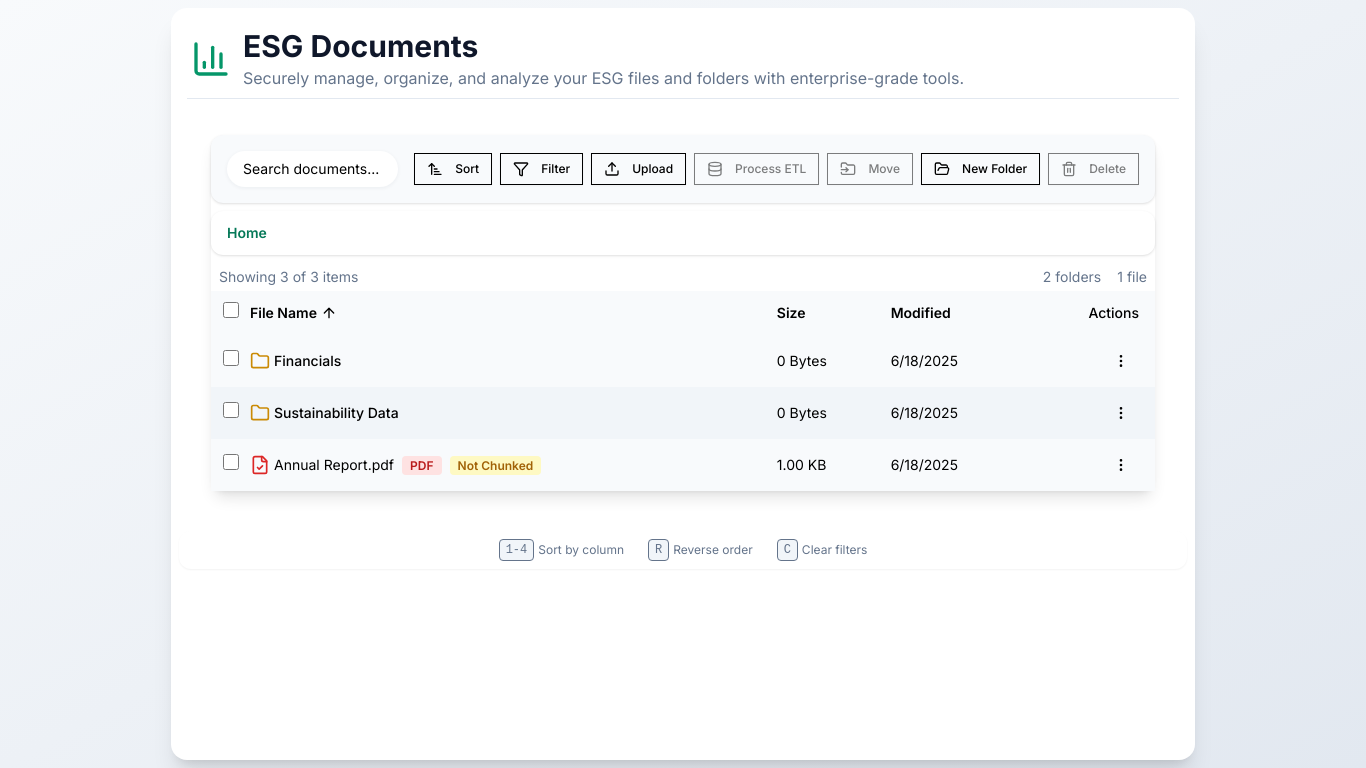
Test: Move Item Functionality › should move a file to the selected destination folder
Expected: the text "Annual Report.pdf" is shown, [274,456,394,472]
Click the button named "more-actions" in the row of "Annual Report.pdf". click: {"x": 1121, "y": 464}
box: [1103,446,1139,482]
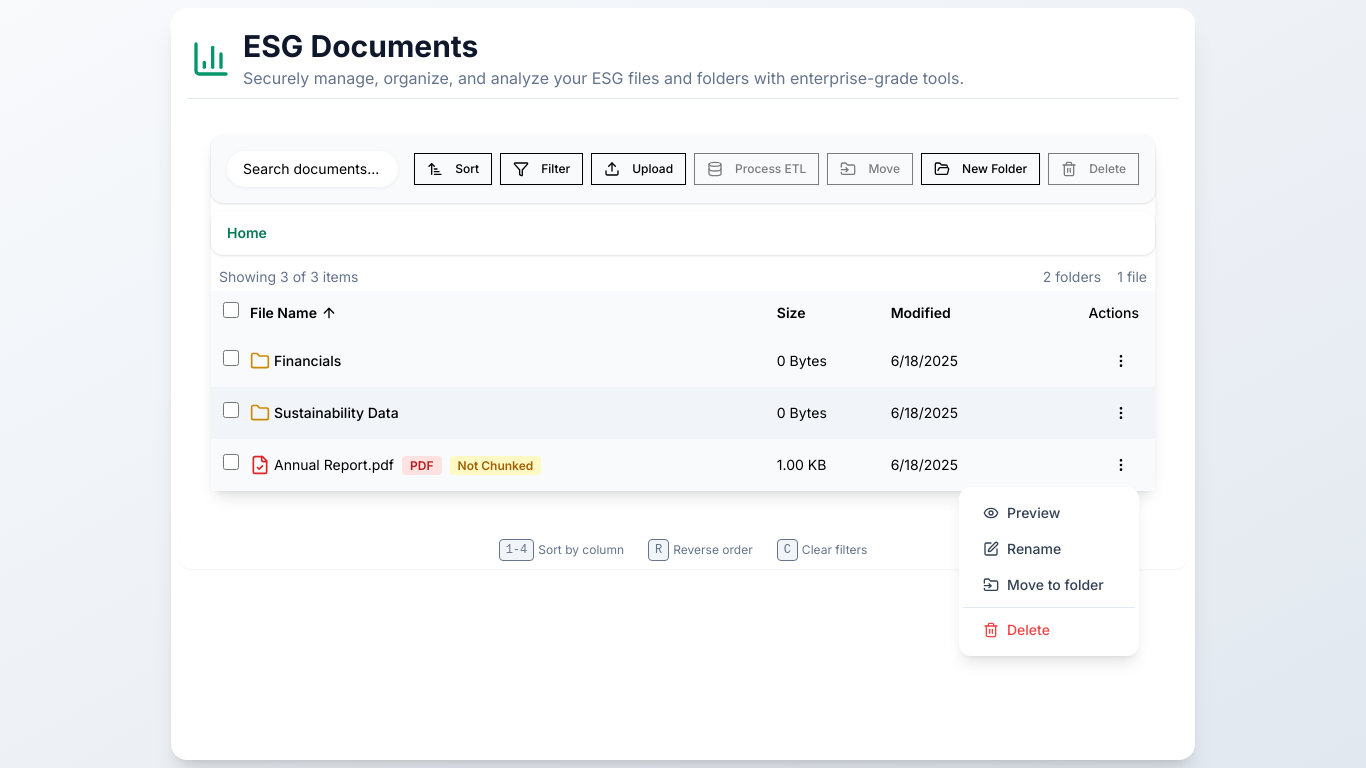
Click the menu item with aria-label "move-to-folder". click: {"x": 1043, "y": 584}
box: [983,576,1104,593]
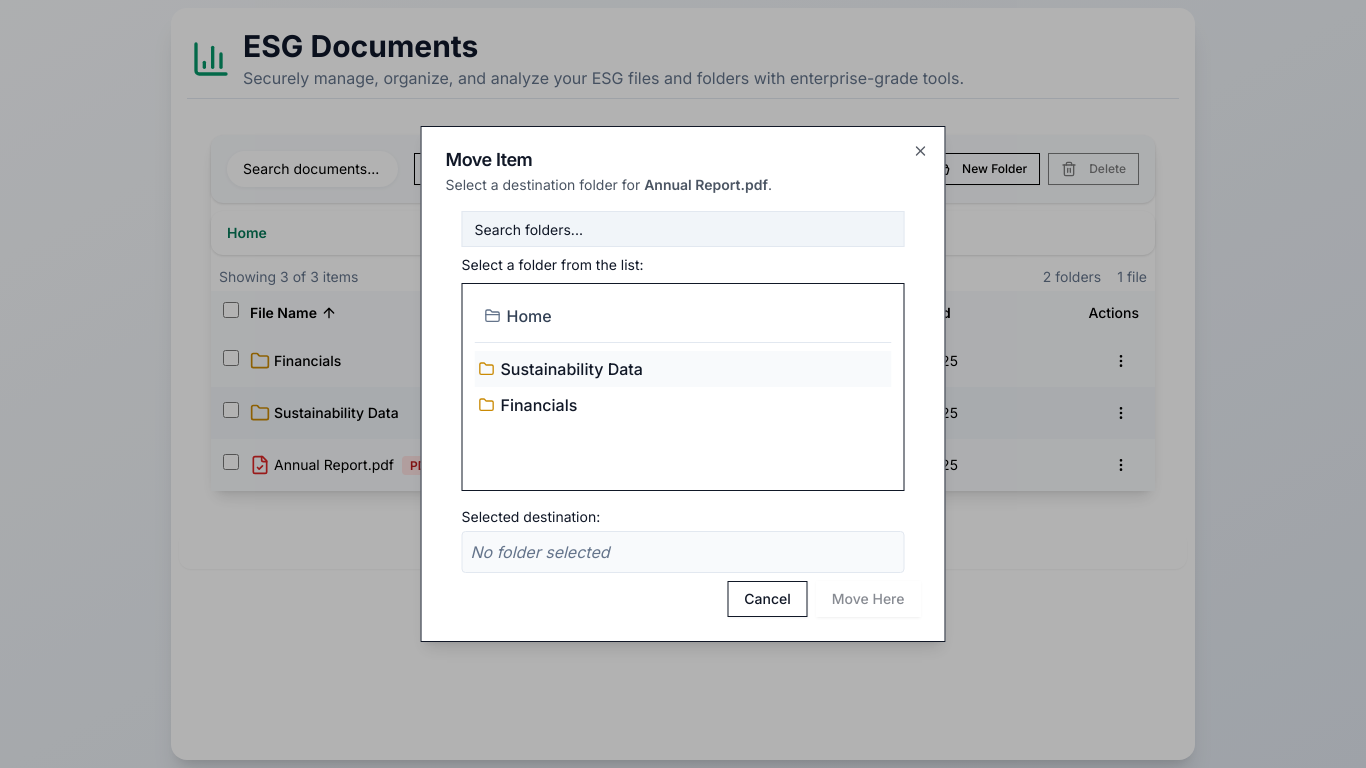
Click the text "Sustainability Data". click: {"x": 572, "y": 369}
box: [500,357,643,381]
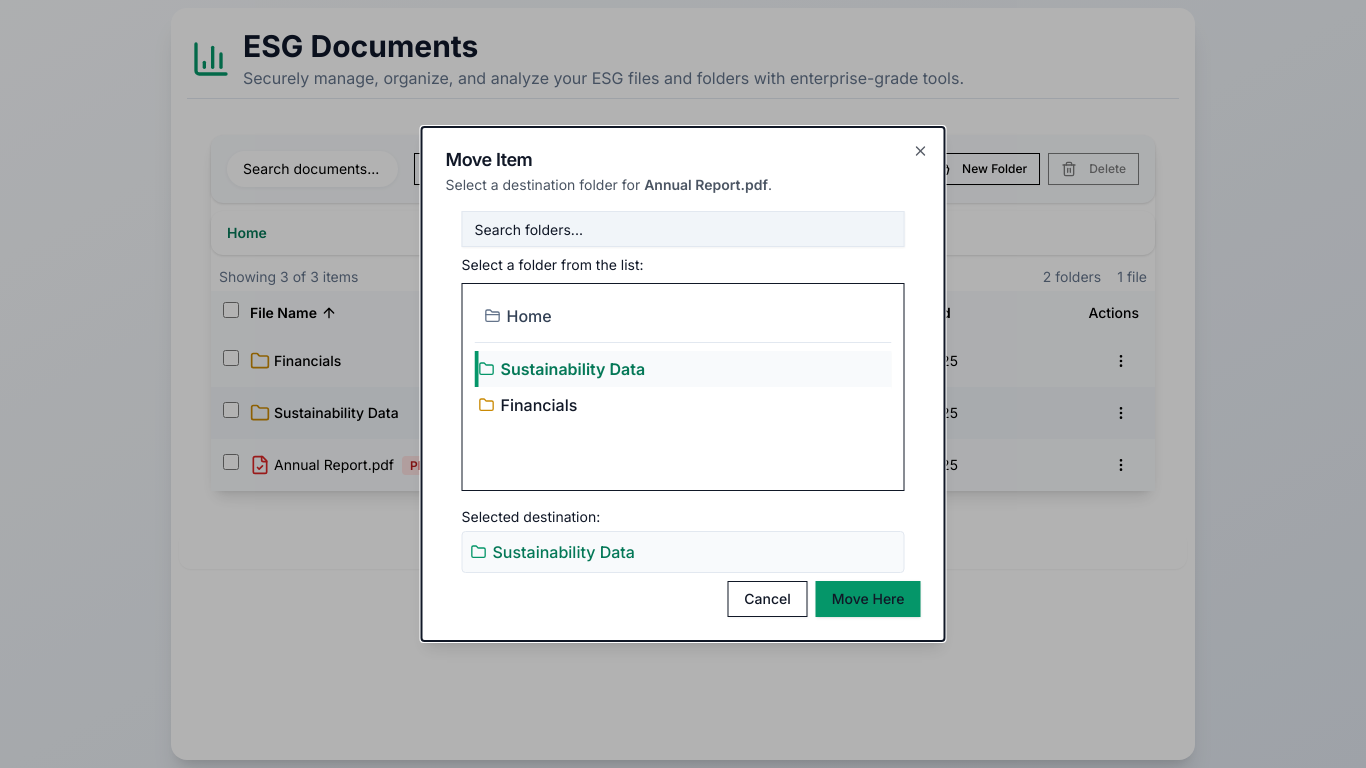
Click the "Move Here" button
Click the button "Move Here". click: {"x": 868, "y": 599}
box: [816,581,920,617]
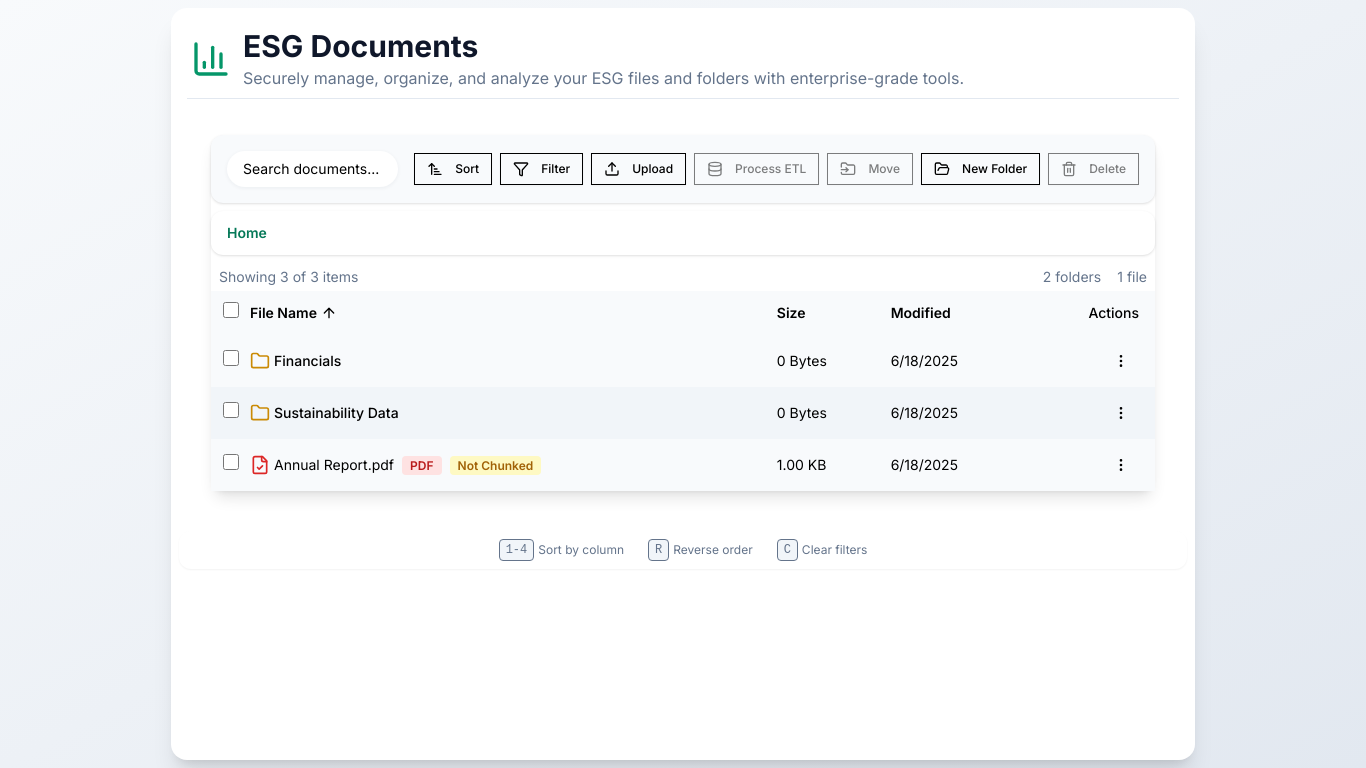
Expected: the heading "Move Item" is gone
